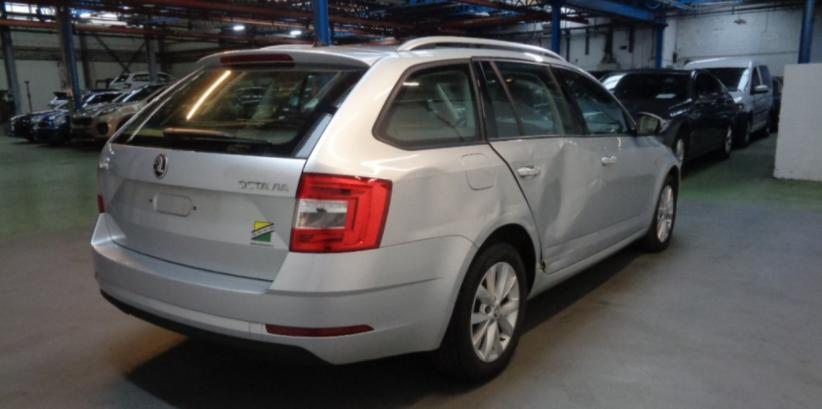Back-bumper: (91, 212, 478, 368)
Back-door: (471, 56, 602, 277)
Back-wheel: (436, 243, 529, 385)
Back-window: (380, 65, 481, 147), (497, 63, 578, 134), (482, 63, 520, 136)
Back-windshield: (110, 64, 367, 159)
Fender: (649, 147, 682, 227)
Front-door: (551, 64, 655, 251)
Front-wheel: (636, 178, 678, 253)
Front-window: (557, 70, 628, 132)
Hood: (646, 137, 663, 146)
Mirror: (633, 111, 669, 137)
Quarter-panel: (303, 137, 543, 274)
Rocker-panel: (528, 229, 648, 299)
Roof: (304, 36, 584, 70)
Tail-light: (289, 173, 392, 253), (96, 173, 104, 219)
Trunk: (99, 143, 306, 281), (198, 48, 388, 66)
